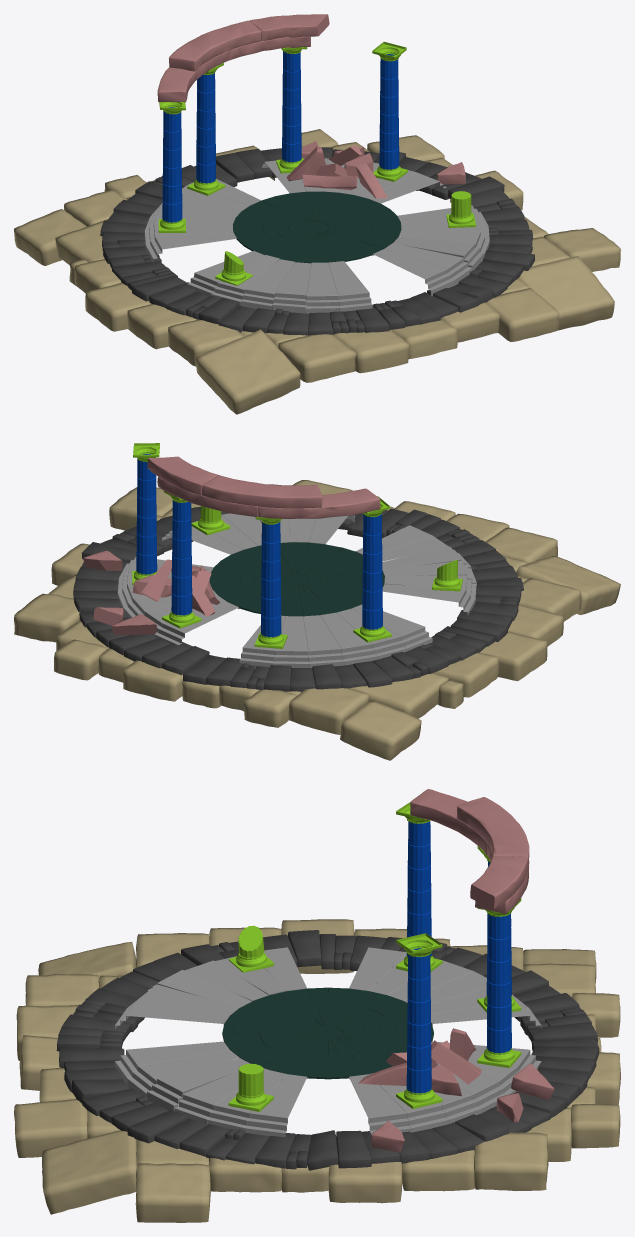
3 views of the same model, one above another, from view 1: azimuth 30°, elevation 25°; view 2: azimuth 150°, elevation 25°; view 3: azimuth 270°, elevation 25° (orthographic). The views are drawn at different scales.
Parts seen in each view (by area): view 1: FundamentBlocks, StoneRing3, FloorSteps, safe, FloorInner, Xol-Platf, Column1, Column004, Column2, Column3; view 2: FundamentBlocks, StoneRing3, FloorSteps, safe, FloorInner, Xol-Platf, Column3, Column1, Column2, Column004; view 3: FundamentBlocks, StoneRing3, FloorSteps, FloorInner, safe, Xol-Platf, Column004, Column3, Column1.
Boxes of the visible parts, left/top/right/bottom form: FundamentBlocks: left=14, top=129, right=620, bottom=414; StoneRing3: left=100, top=147, right=534, bottom=335; FloorSteps: left=144, top=158, right=489, bottom=313; safe: left=157, top=14, right=465, bottom=198; FloorInner: left=233, top=191, right=401, bottom=263; Xol-Platf: left=158, top=41, right=475, bottom=285; Column1: left=162, top=107, right=182, bottom=222; Column004: left=379, top=54, right=399, bottom=169; Column2: left=196, top=73, right=215, bottom=183; Column3: left=282, top=51, right=301, bottom=162; FundamentBlocks: left=14, top=480, right=620, bottom=760; StoneRing3: left=73, top=507, right=523, bottom=691; FloorSteps: left=117, top=513, right=476, bottom=667; safe: left=83, top=456, right=380, bottom=635; FloorInner: left=209, top=542, right=384, bottom=616; Xol-Platf: left=132, top=443, right=462, bottom=648; Column3: left=171, top=500, right=192, bottom=615; Column1: left=362, top=514, right=382, bottom=629; Column2: left=261, top=521, right=281, bottom=637; Column004: left=136, top=454, right=157, bottom=574; FundamentBlocks: left=14, top=919, right=620, bottom=1222; StoneRing3: left=56, top=930, right=599, bottom=1170; FloorSteps: left=114, top=947, right=541, bottom=1137; FloorInner: left=222, top=987, right=433, bottom=1079; safe: left=358, top=789, right=554, bottom=1152; Xol-Platf: left=228, top=802, right=521, bottom=1111; Column004: left=406, top=948, right=431, bottom=1093; Column3: left=486, top=914, right=511, bottom=1053; Column1: left=406, top=821, right=431, bottom=956.
Size of the model in its own units: 1141 by 493 by 1056.
